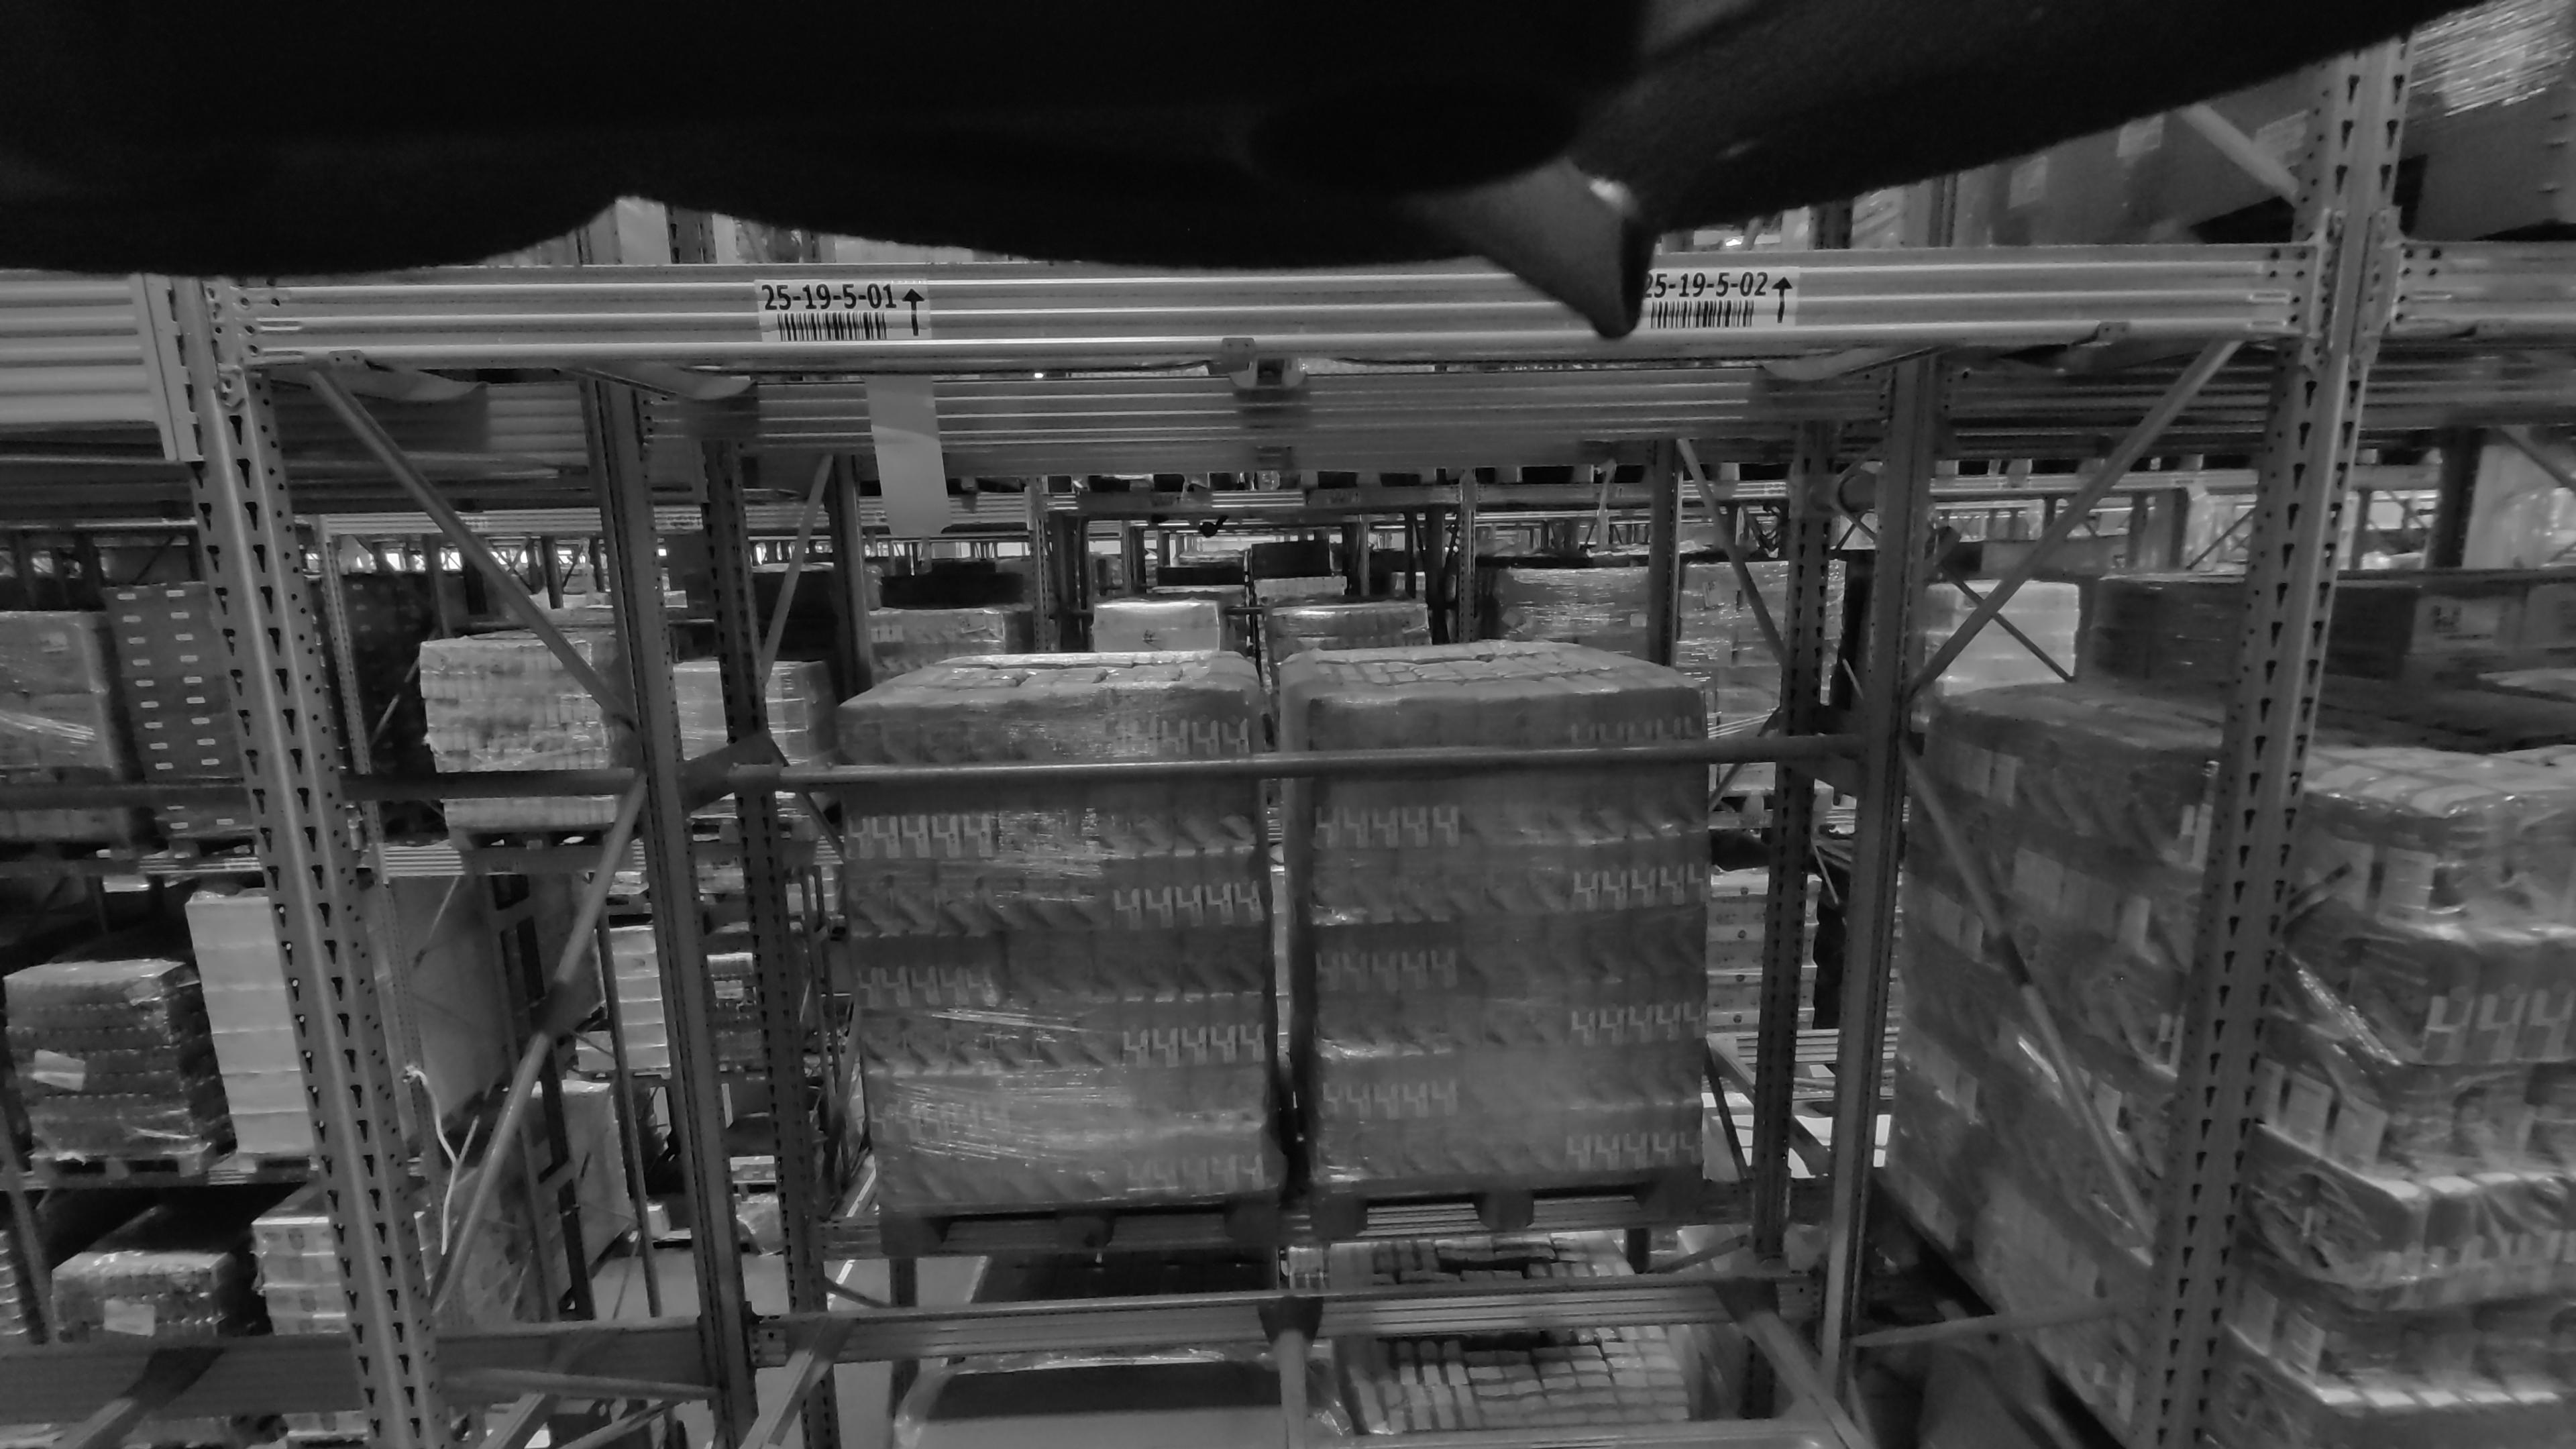empty-shelf: (1315, 372, 1881, 1449), (740, 366, 1269, 1449)
